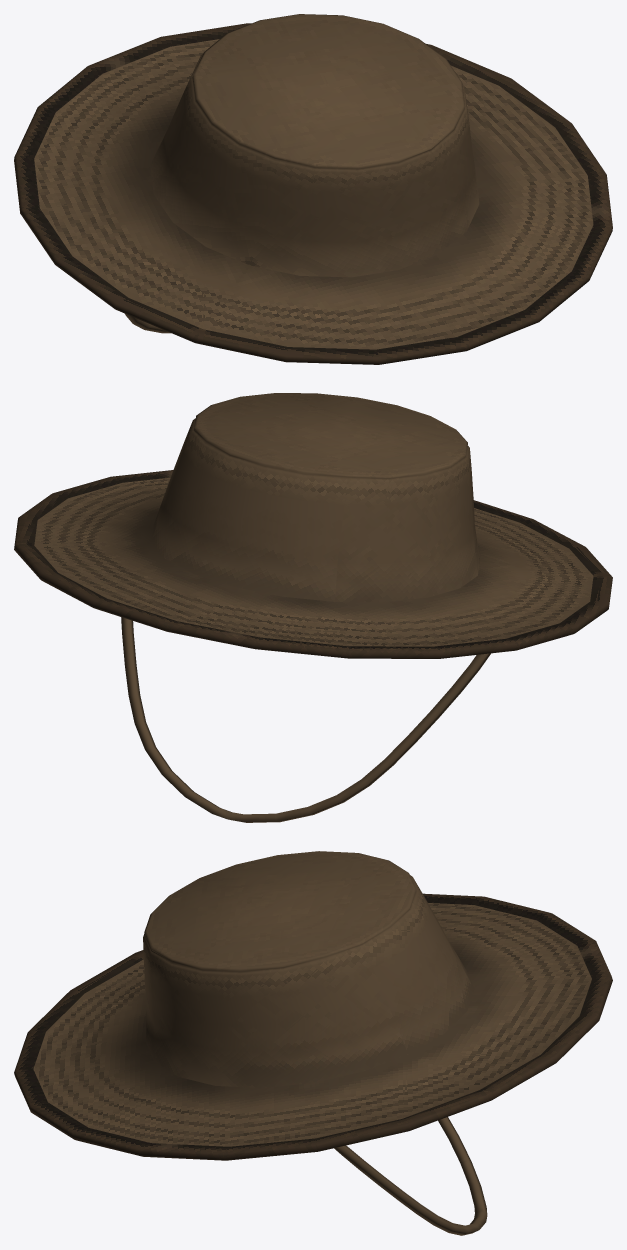
File: RadianCamp.gltf
The picture shows the model from 3 angles, top to bottom: view 1: azimuth 30°, elevation 25°; view 2: azimuth 150°, elevation 25°; view 3: azimuth 270°, elevation 25°; orthographic projection.
Visible parts, largest first — view 1: Mesh; view 2: Mesh; view 3: Mesh.
Boxes of the visible parts, <box> form: Mesh: <box>14,14,612,364</box>; Mesh: <box>14,393,612,822</box>; Mesh: <box>14,851,612,1235</box>.
Size of the model in its own units: 1.44 by 0.875 by 1.44.
1 material, 1 textured.
